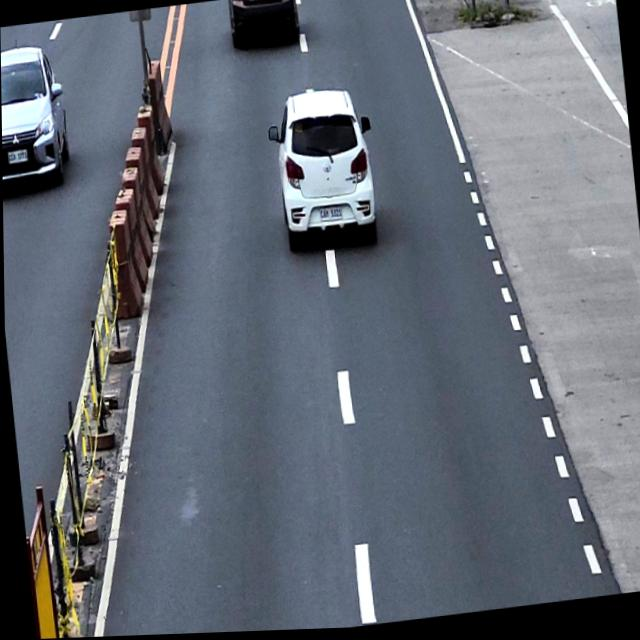Car: (263, 82, 382, 250), (0, 40, 72, 192), (227, 0, 301, 47)
License-Plate: (317, 206, 343, 225), (5, 148, 28, 165), (254, 0, 271, 3)
